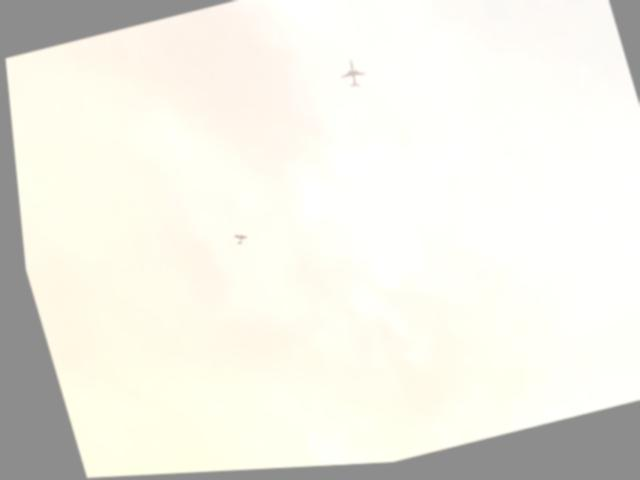plane: (334, 60, 365, 92), (227, 233, 241, 246)
